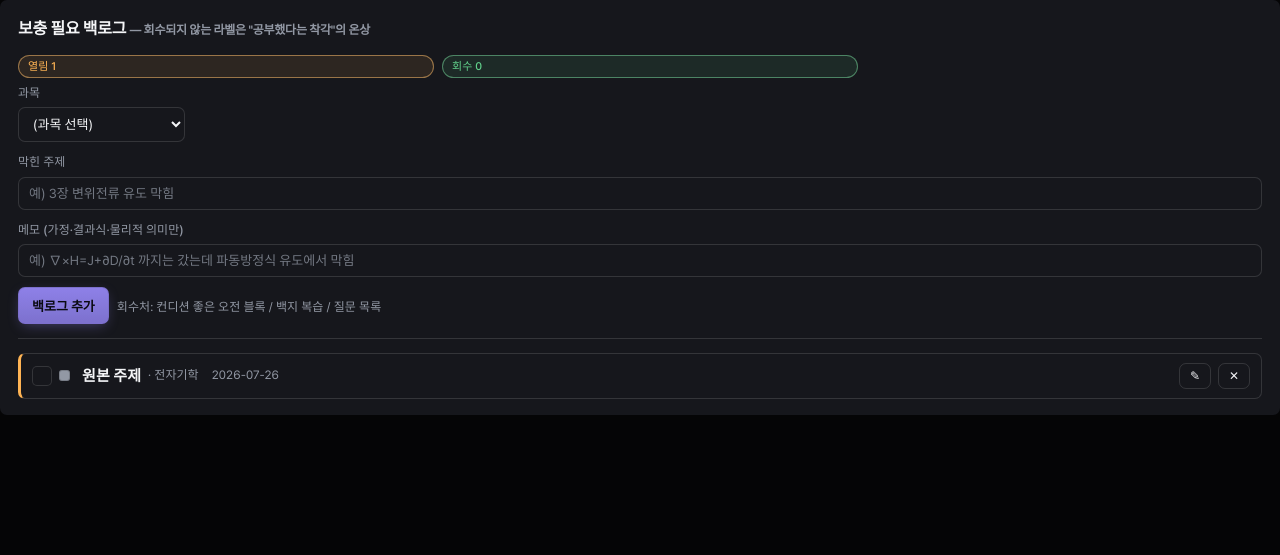
Test: 편집 폼에서 Esc 가 취소한다 — 세 카드 모두 없던 계약
This screenshot has width=1280, height=555.
Click the button titled "수정" at coordinates (1195, 376), box [1179,363,1211,389]
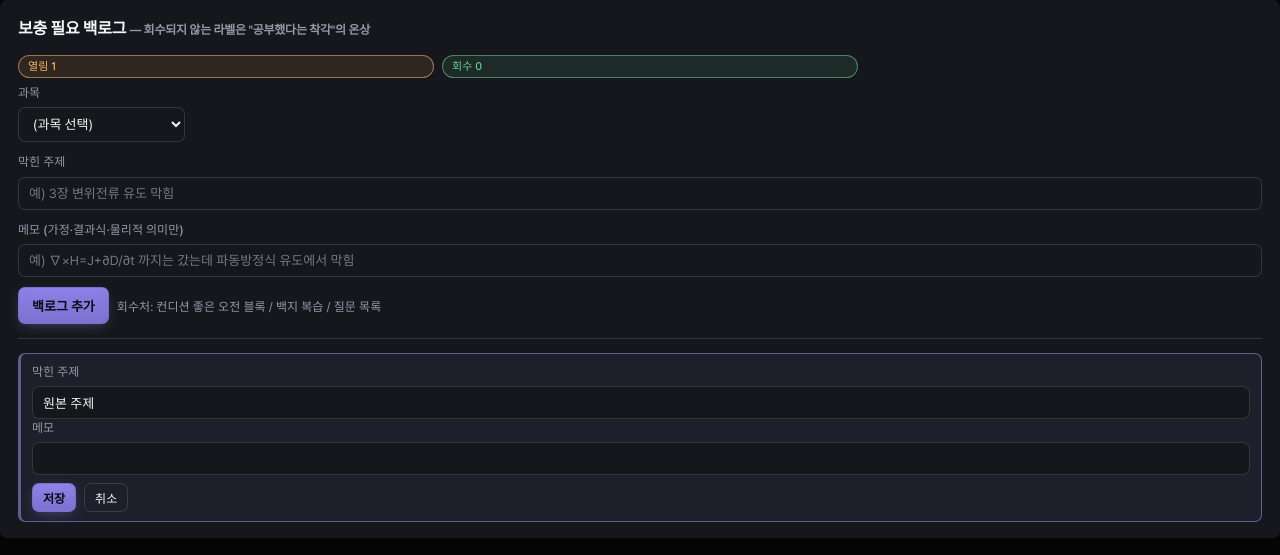
Replace the text in the 2nd field labelled "막힌 주제" with "고치다 만 것" at coordinates (641, 402), box [32,386,1250,419]
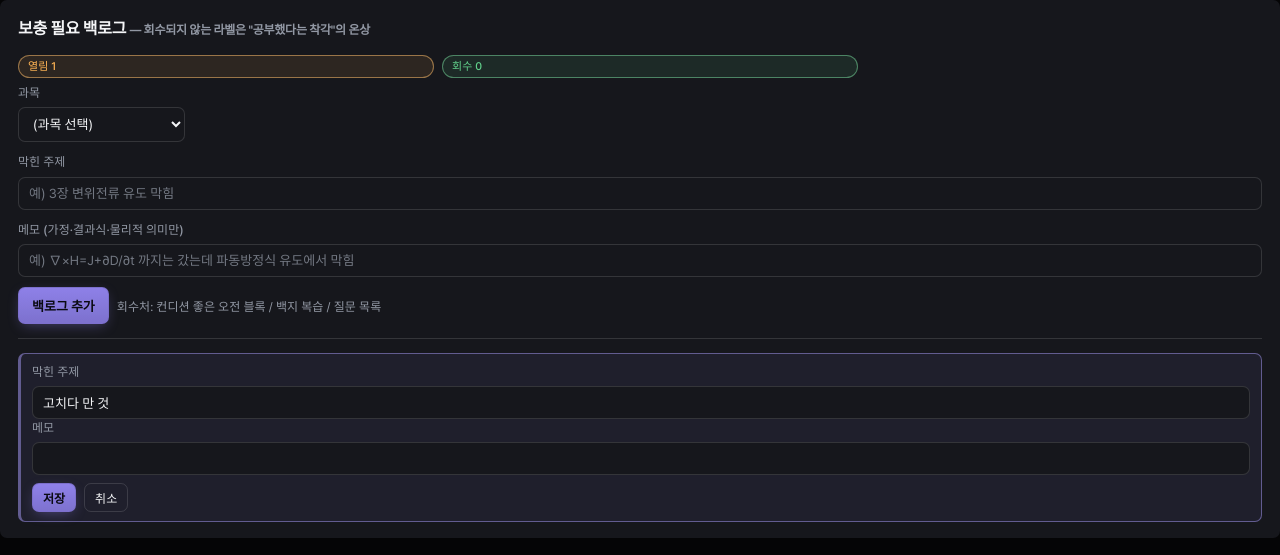
Press Escape in the 2nd field labelled "막힌 주제", box [32,386,1250,419]
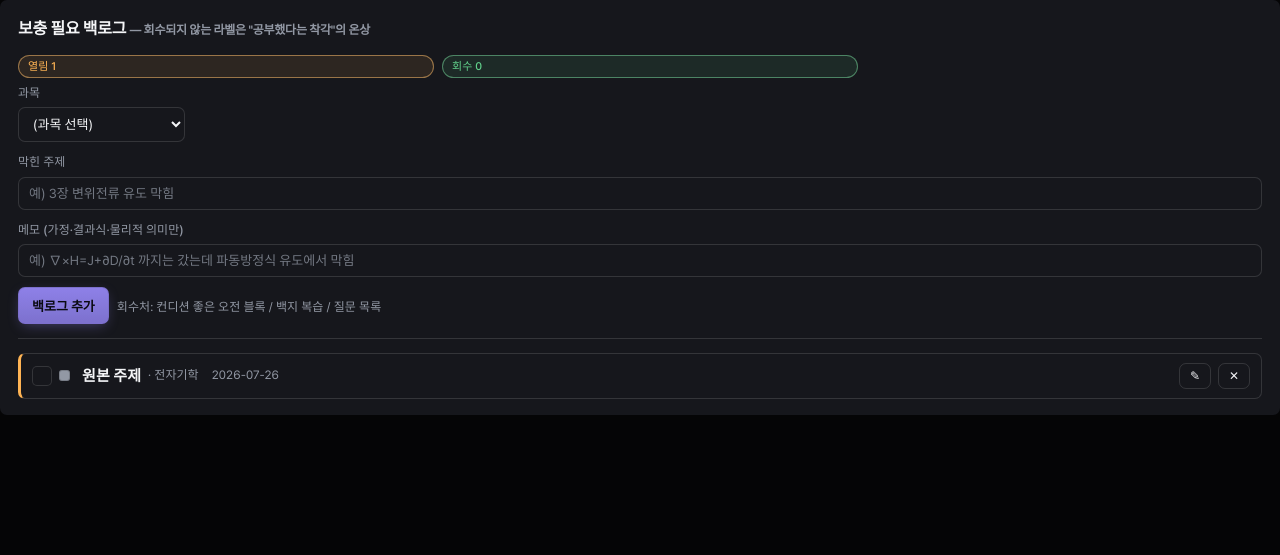
Result: the button "저장" is gone
Result: the text "원본 주제" is shown at [82,364,141,388]
